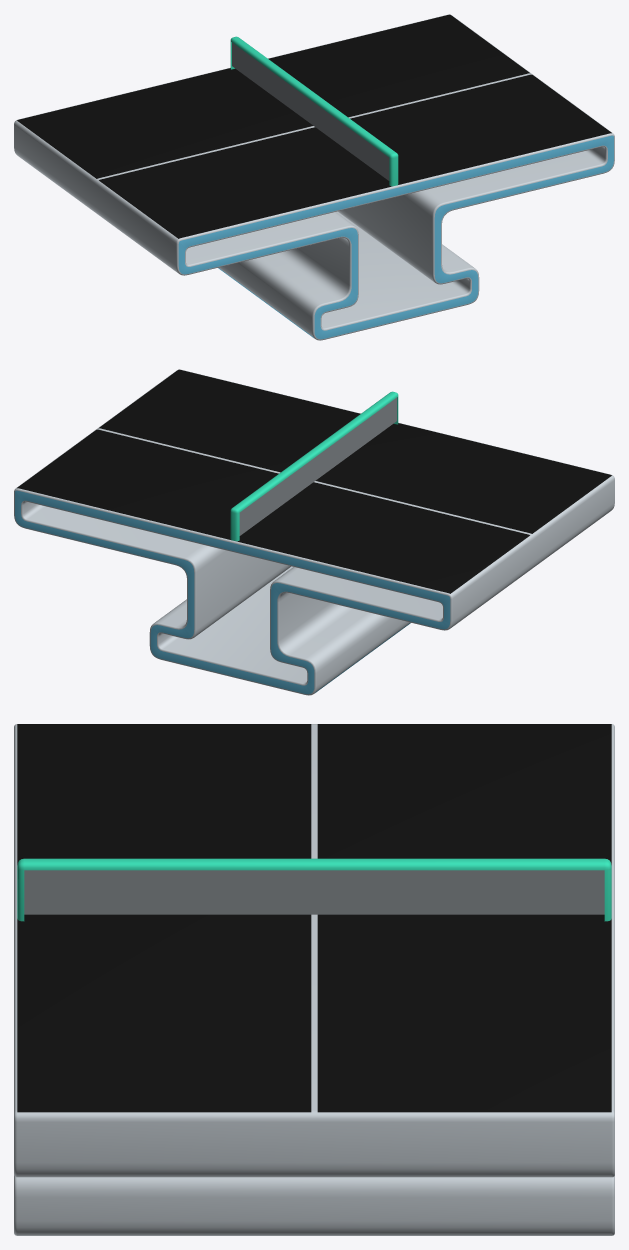
The model's file is PingPong_Table_V1.fbx.
3 views of the same model, one above another, from view 1: azimuth 30°, elevation 25°; view 2: azimuth 150°, elevation 25°; view 3: azimuth 270°, elevation 25° (orthographic). The views are drawn at different scales.
Parts seen in each view (by area): view 1: PingPong_Table_V1; view 2: PingPong_Table_V1; view 3: PingPong_Table_V1.
Boxes of the visible parts, left/top/right/bottom form: PingPong_Table_V1: left=14, top=14, right=614, bottom=340; PingPong_Table_V1: left=14, top=369, right=614, bottom=695; PingPong_Table_V1: left=14, top=724, right=614, bottom=1235.
Bounding box in the file's own units: 309 × 113 × 200.
